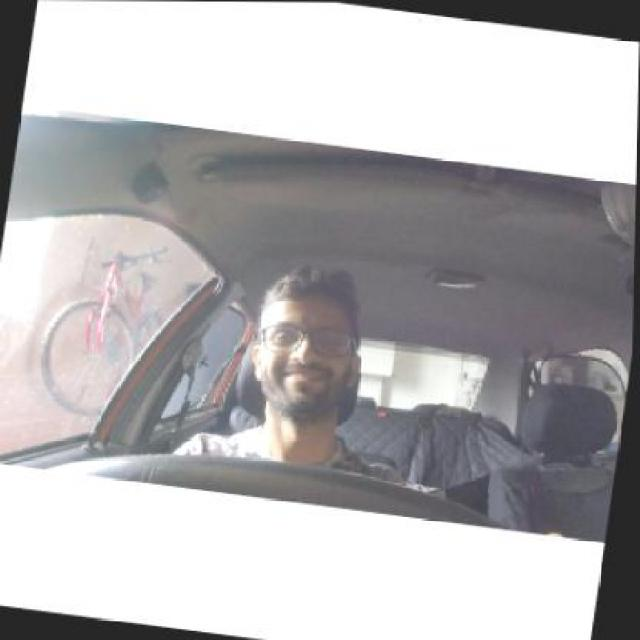person: (247, 267, 366, 423)
